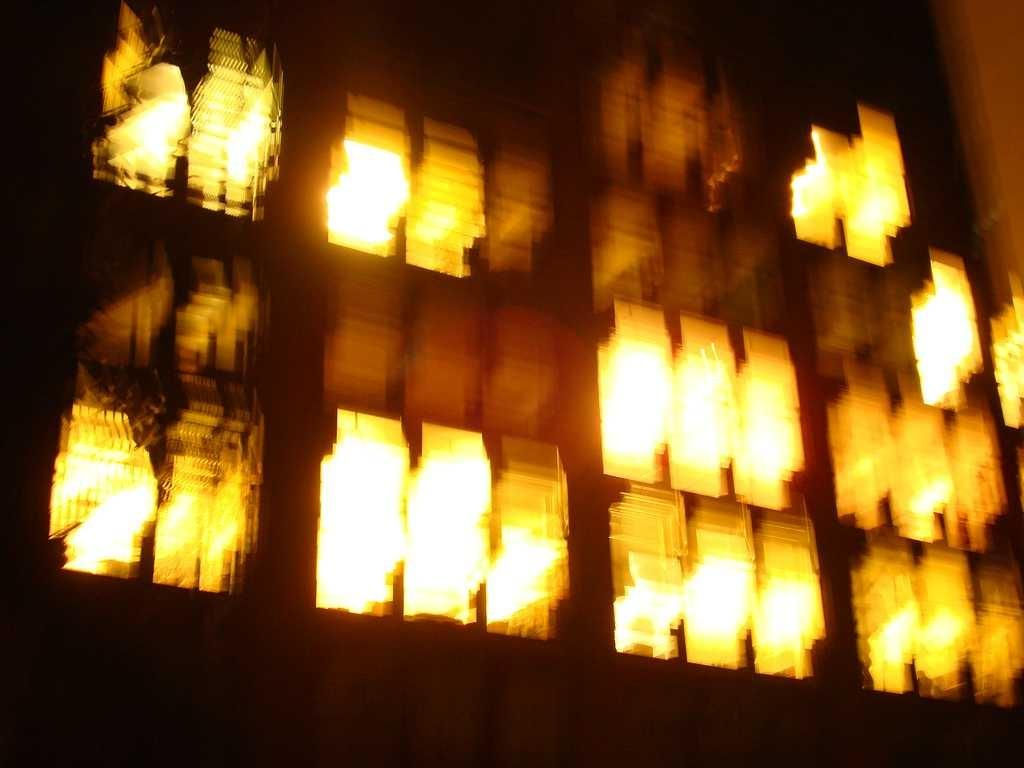fire: (304, 437, 576, 628), (594, 484, 832, 678), (604, 304, 808, 502), (54, 404, 256, 588), (117, 27, 261, 214), (834, 394, 995, 545), (344, 121, 475, 262), (811, 134, 920, 254), (907, 284, 973, 390)
